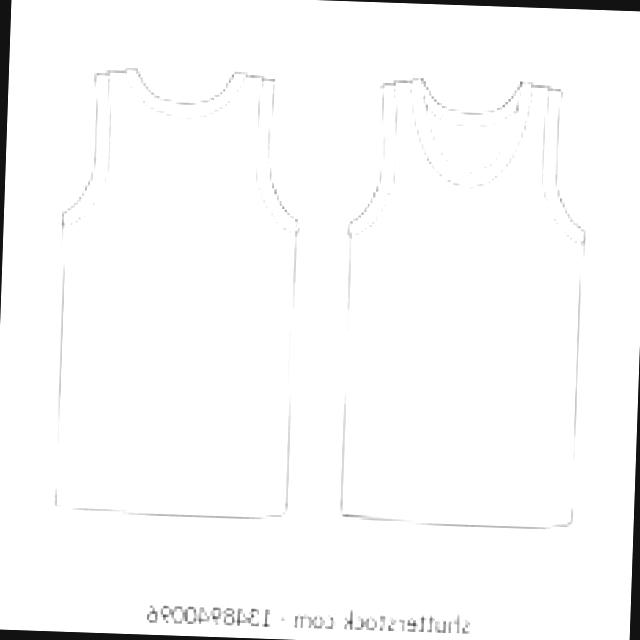no_vest: (48, 64, 306, 522), (338, 72, 594, 532)
